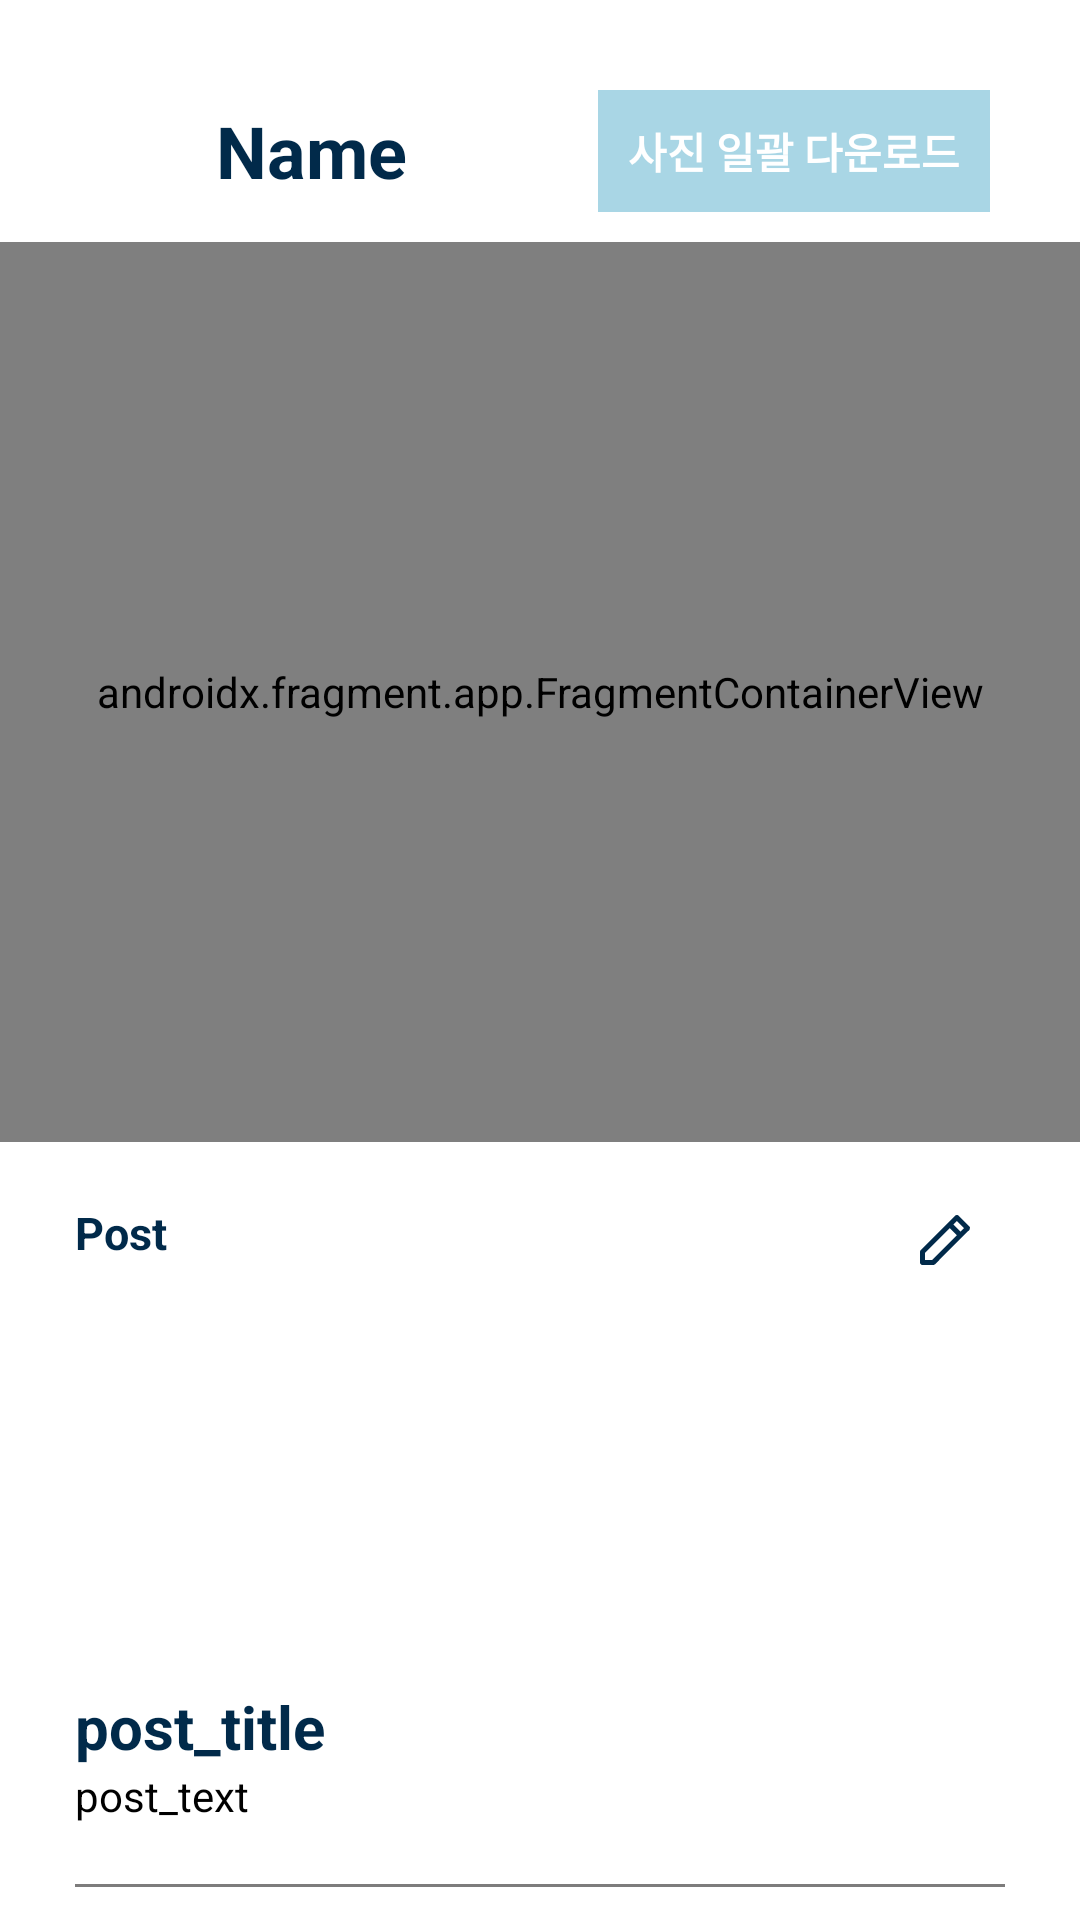

Screen size 1080x1920. Icon name, then its center in pixels as (x,y):
post pencil: (945,1240)
